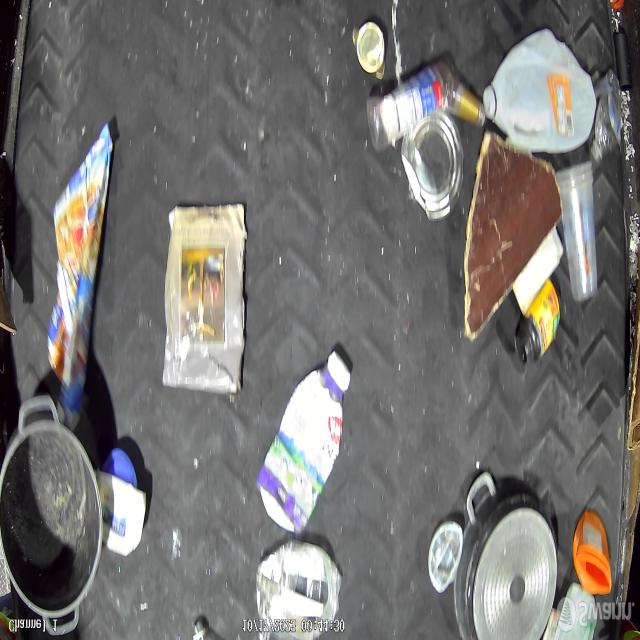can: (401, 113, 464, 220), (355, 19, 385, 82)
milk_jug: (486, 30, 596, 156)
plastic_bottle: (590, 70, 622, 162)
